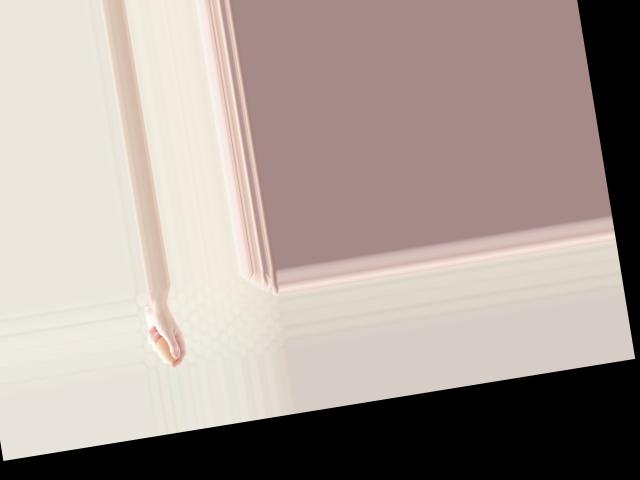egg: (153, 334, 179, 365)
